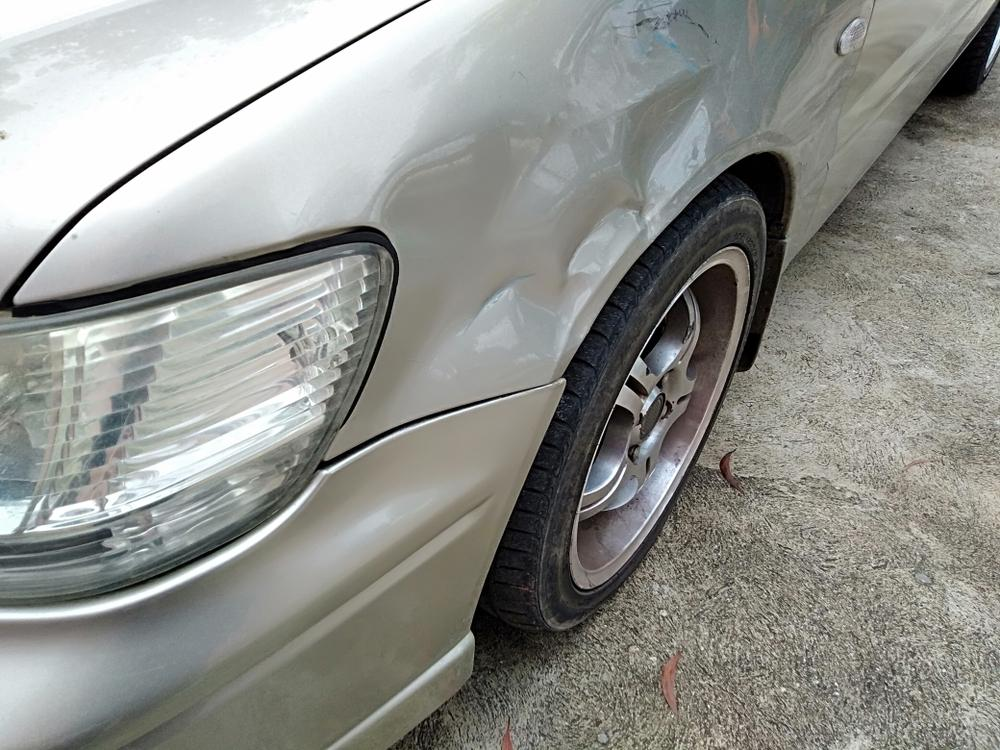dent: (369, 0, 762, 415)
